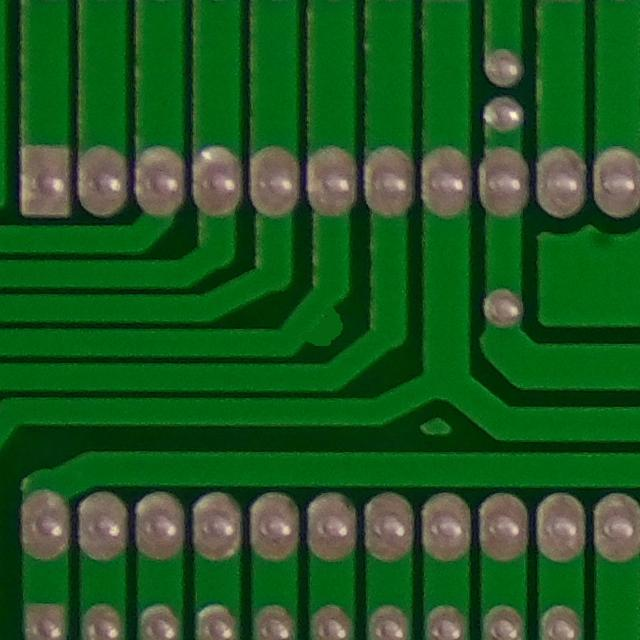spur: (283, 279, 358, 361)
